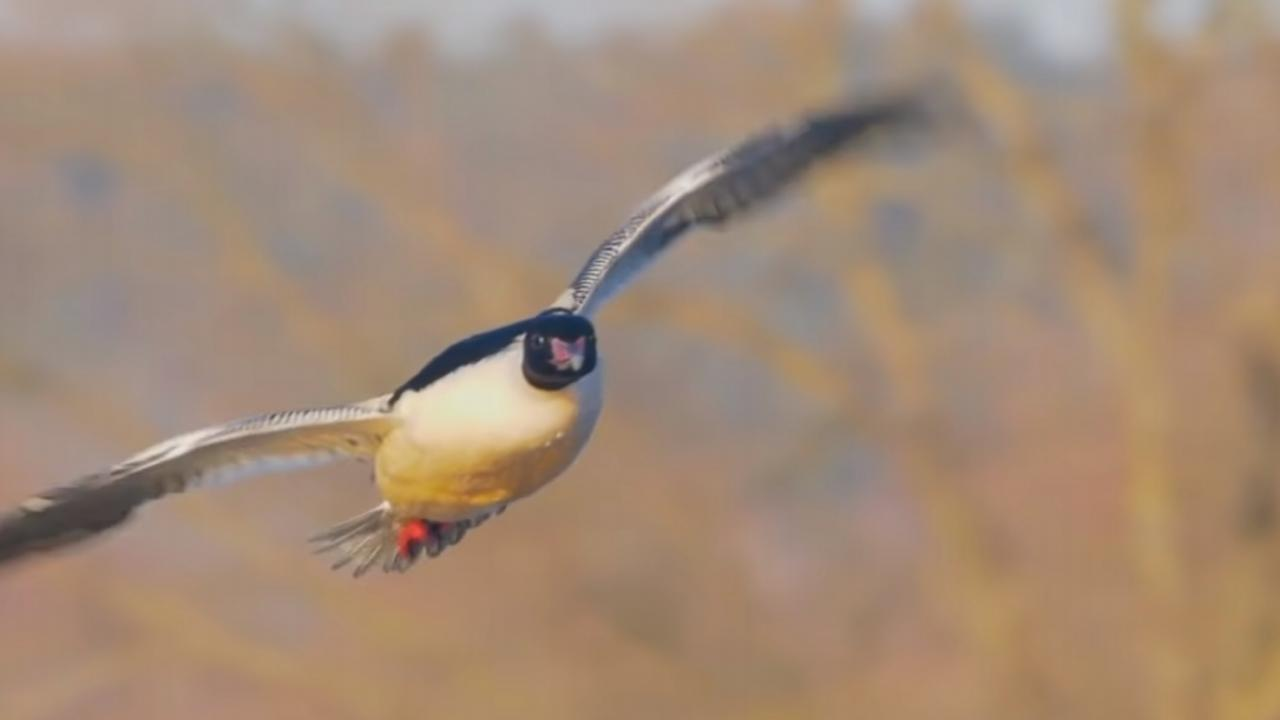Bird: (0, 73, 965, 588)
